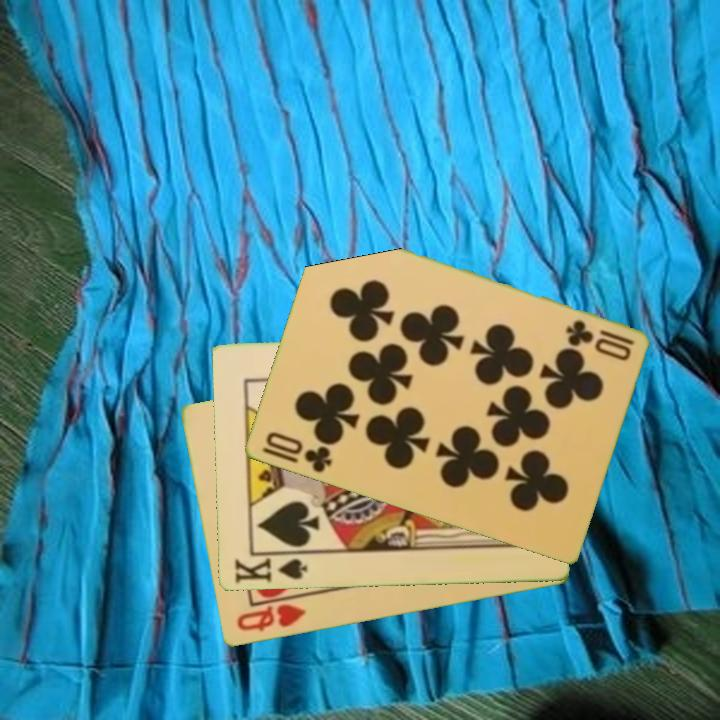10c: (262, 428, 334, 476), (561, 316, 636, 349)
Ks: (230, 550, 311, 587)
Qh: (233, 601, 309, 636)
